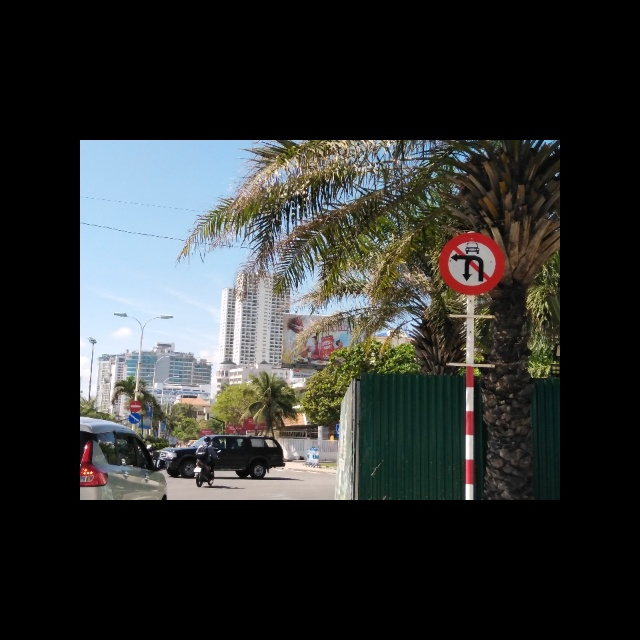Cấm xe ô tô quay đầu và rẽ trái: (436, 231, 507, 294)
